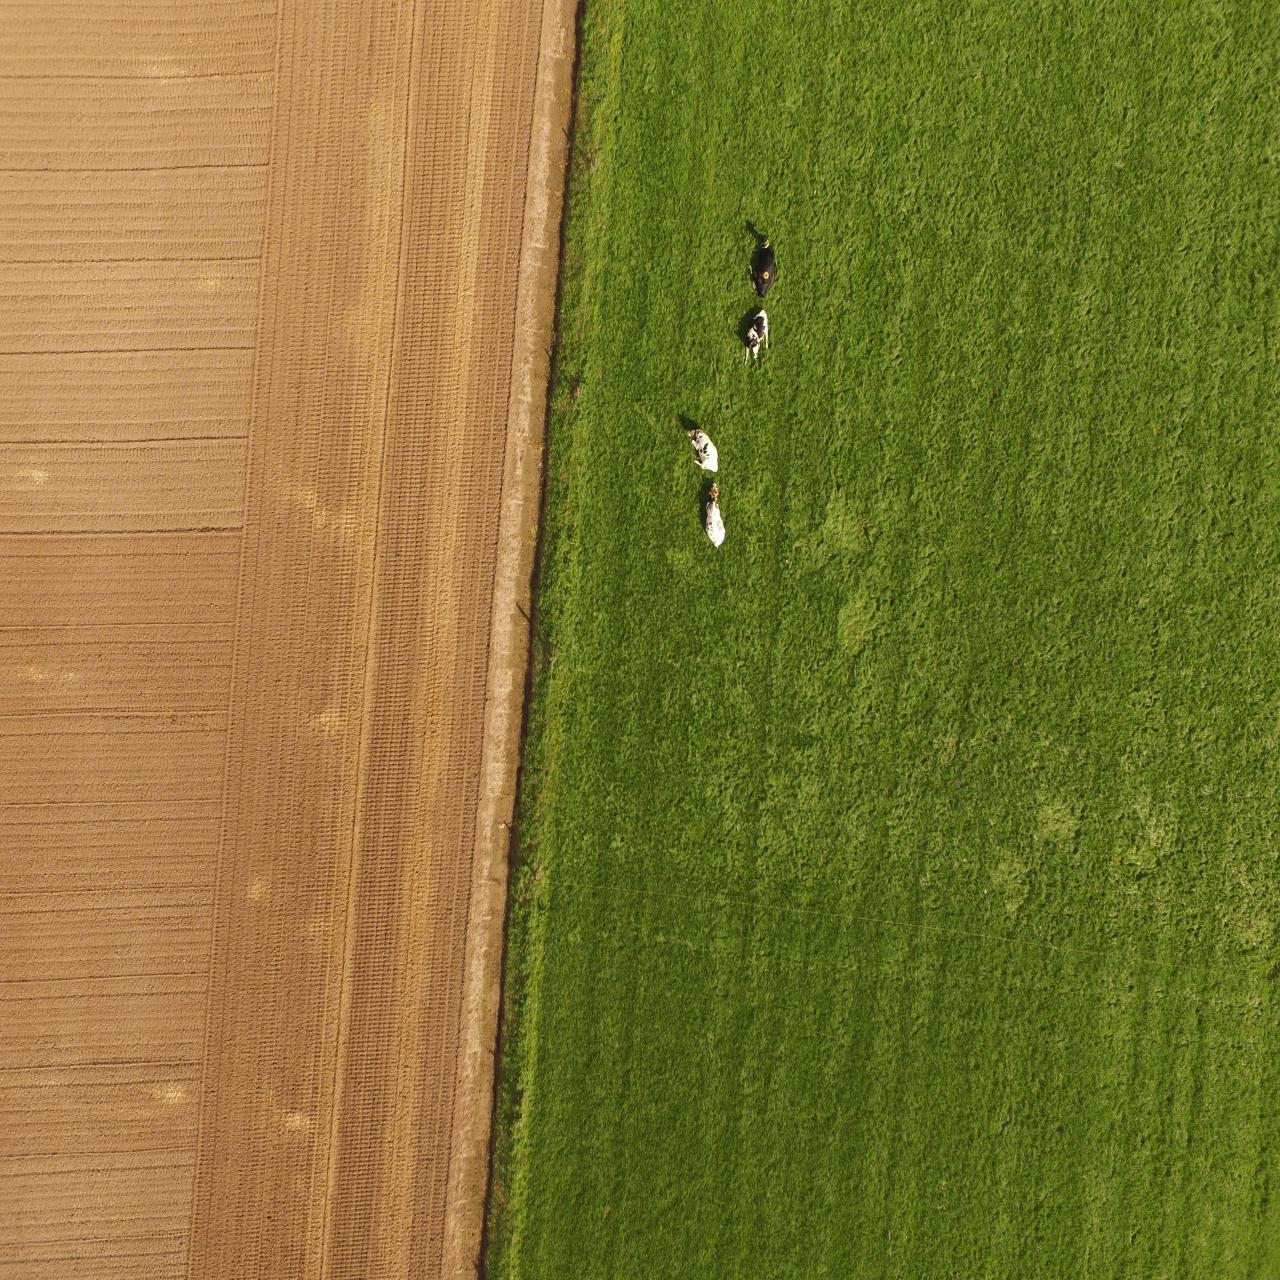cow: (747, 232, 776, 300), (743, 308, 769, 367), (687, 427, 720, 472), (703, 482, 726, 546)
